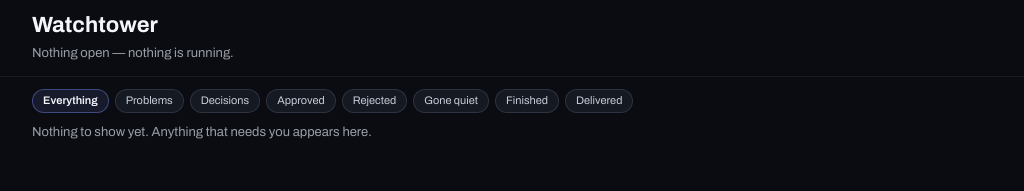
Test: the Approved and Rejected filters › with only the recorded (test-run) rows, the filters are empty and say why
Step 1. Click the button with test id "watchtower-kind" showing "Approved" → (301, 100), box left=266, top=88, right=336, bottom=112
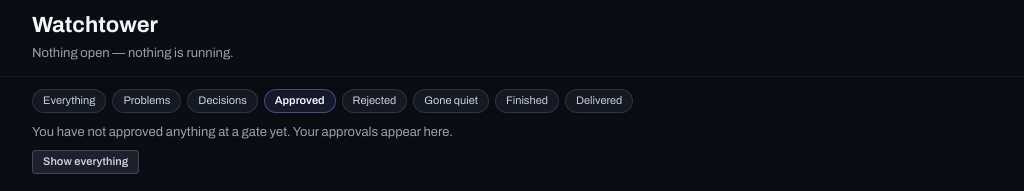
Expected: the element with test id "watchtower-empty" shows "You have not approved anything at a gate yet.", left=32, top=124, right=453, bottom=138
Expected: the button with test id "watchtower-show-all" is shown, left=32, top=150, right=139, bottom=174
Step 2. Click the button with test id "watchtower-kind" showing "Rejected" → (374, 100), box left=342, top=88, right=407, bottom=112
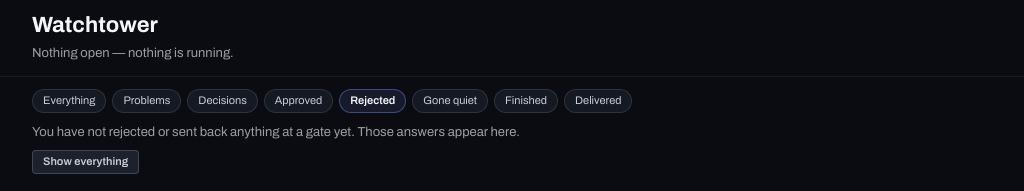
Expected: the element with test id "watchtower-empty" shows "You have not rejected or sent back anything at a gate yet.", left=32, top=124, right=520, bottom=138
